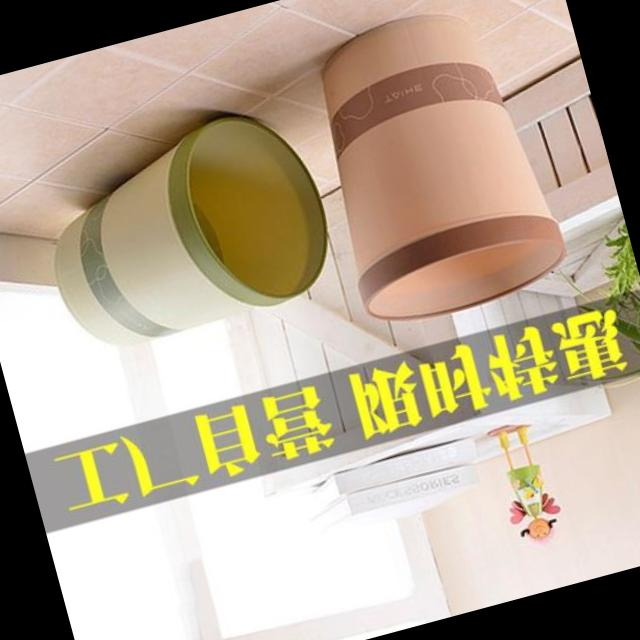dustbin: (291, 0, 583, 337), (18, 86, 353, 369)
